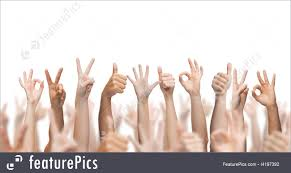thumbs_up: (100, 58, 124, 99), (208, 57, 231, 96)
